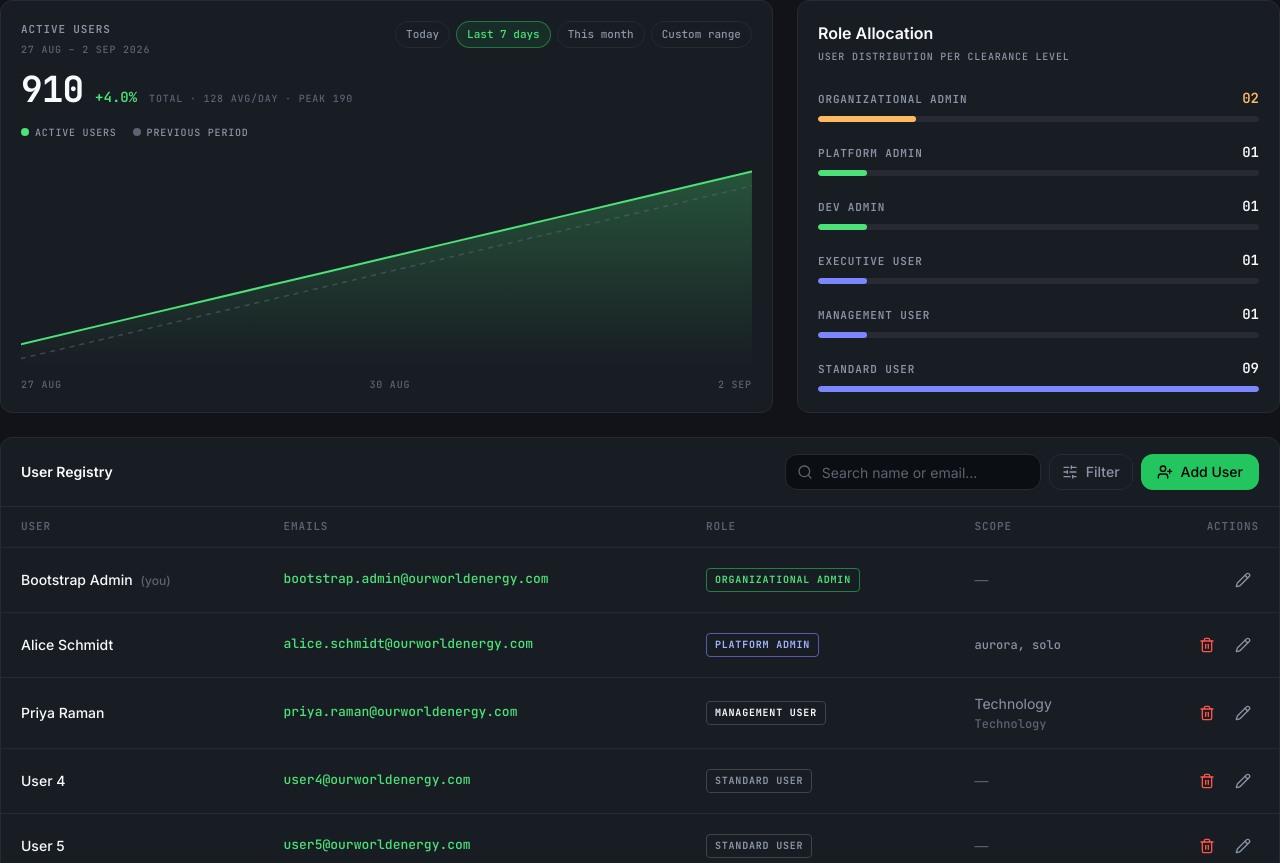
Test case: User Management — empty states › clearing from the empty state drops the search and the role filter together
Click the button with aria-label "Filter registry by role" at coordinates (1091, 472), box [1049,454,1133,490]
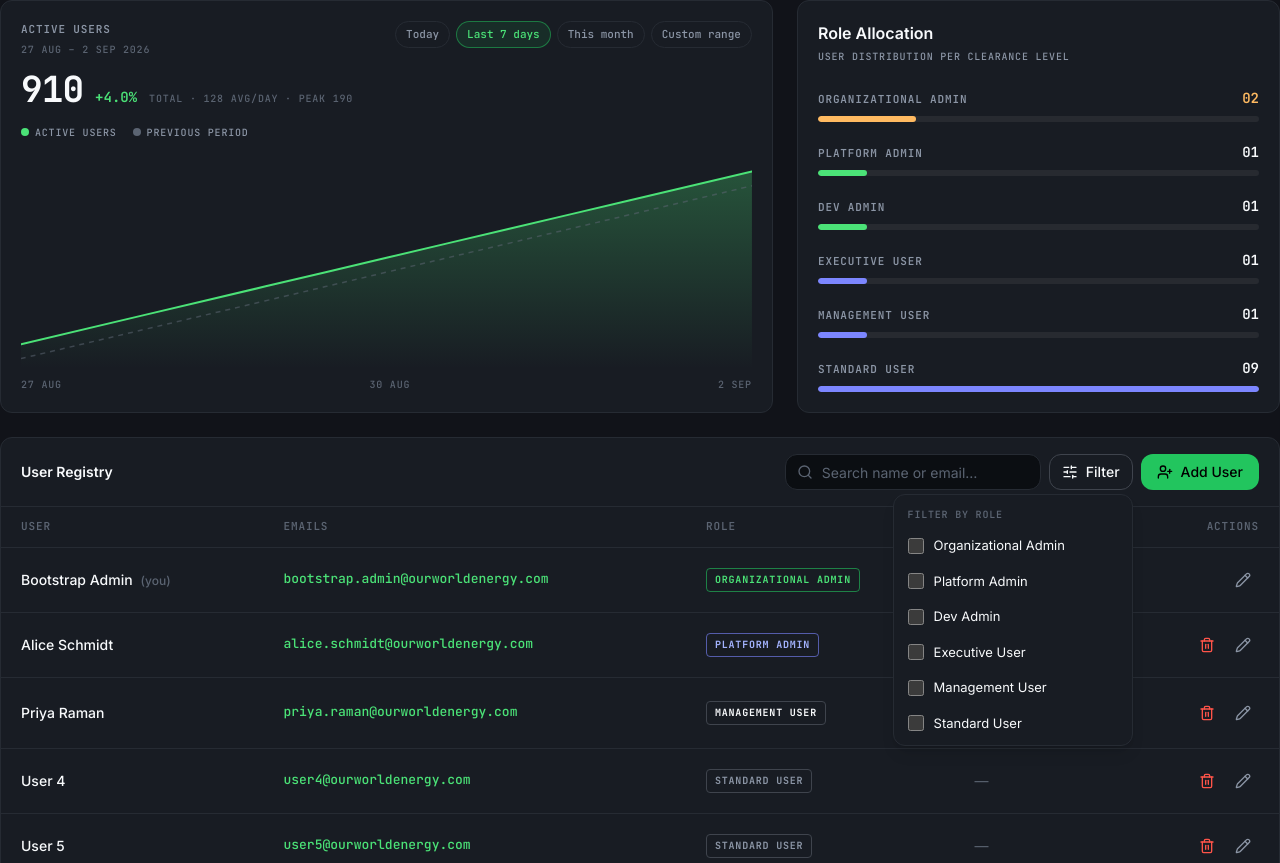
Click the checkbox labelled "Standard User" at coordinates (916, 723), box [908,715,924,731]
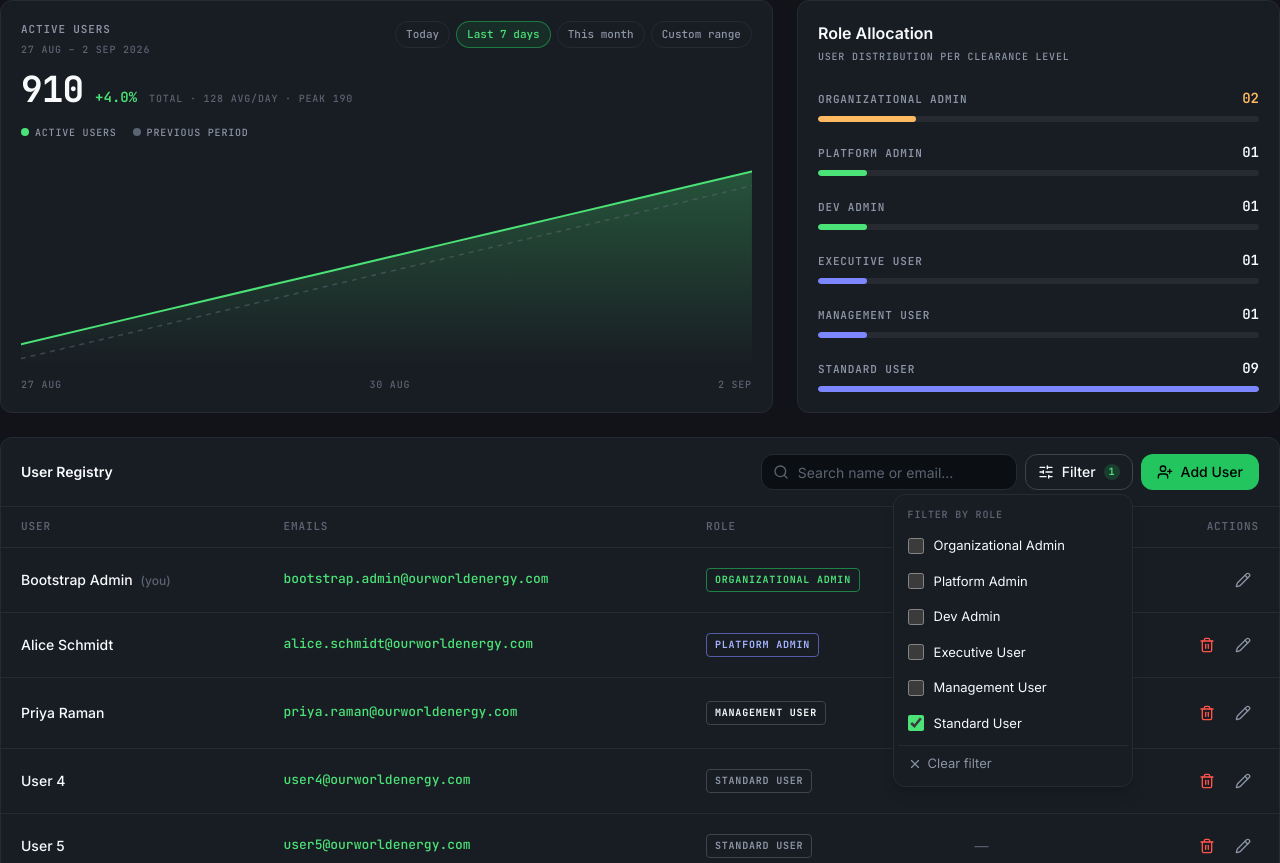
Click the button with aria-label "Filter registry by role" at coordinates (1079, 472), box [1025,454,1133,490]
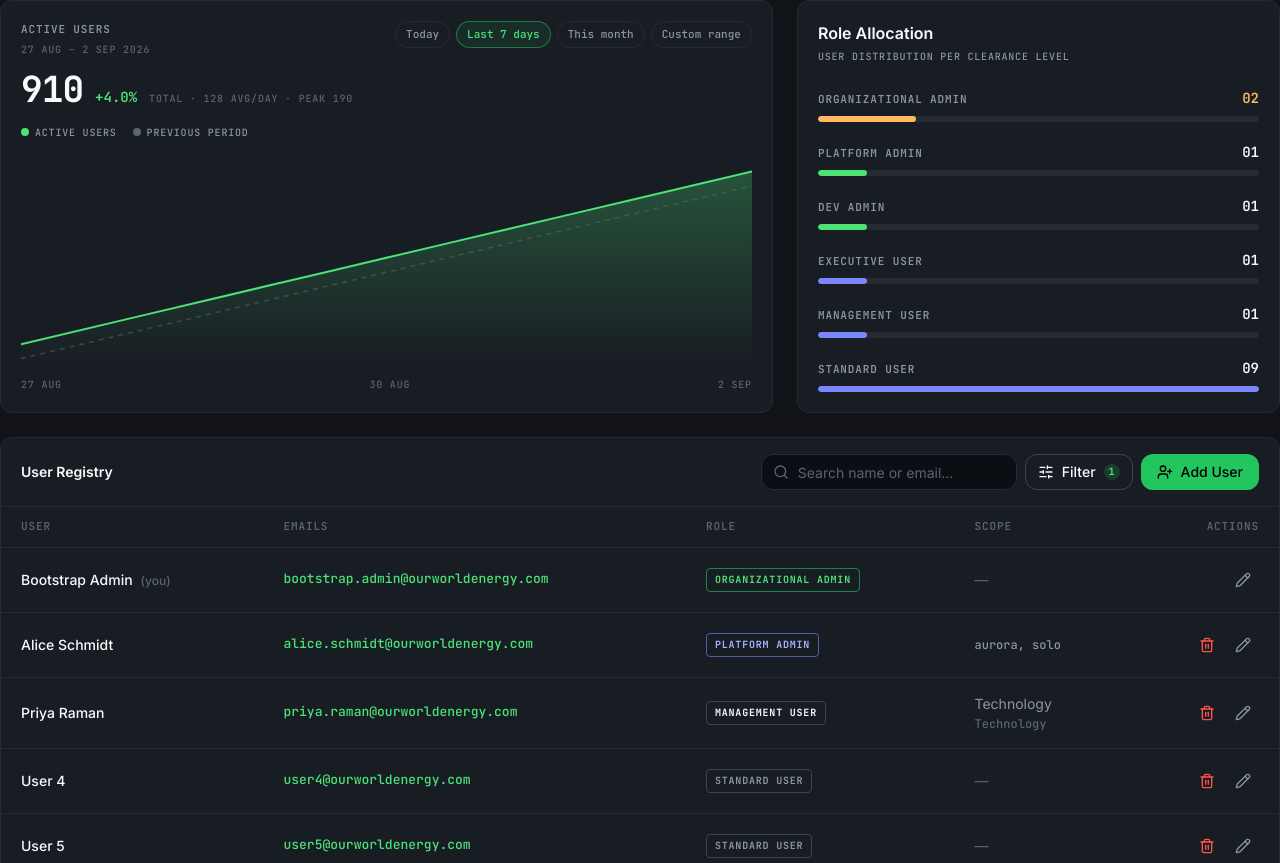
Type "zzz" into the search field named "Search registry" at coordinates (889, 472), box [761,454,1017,490]
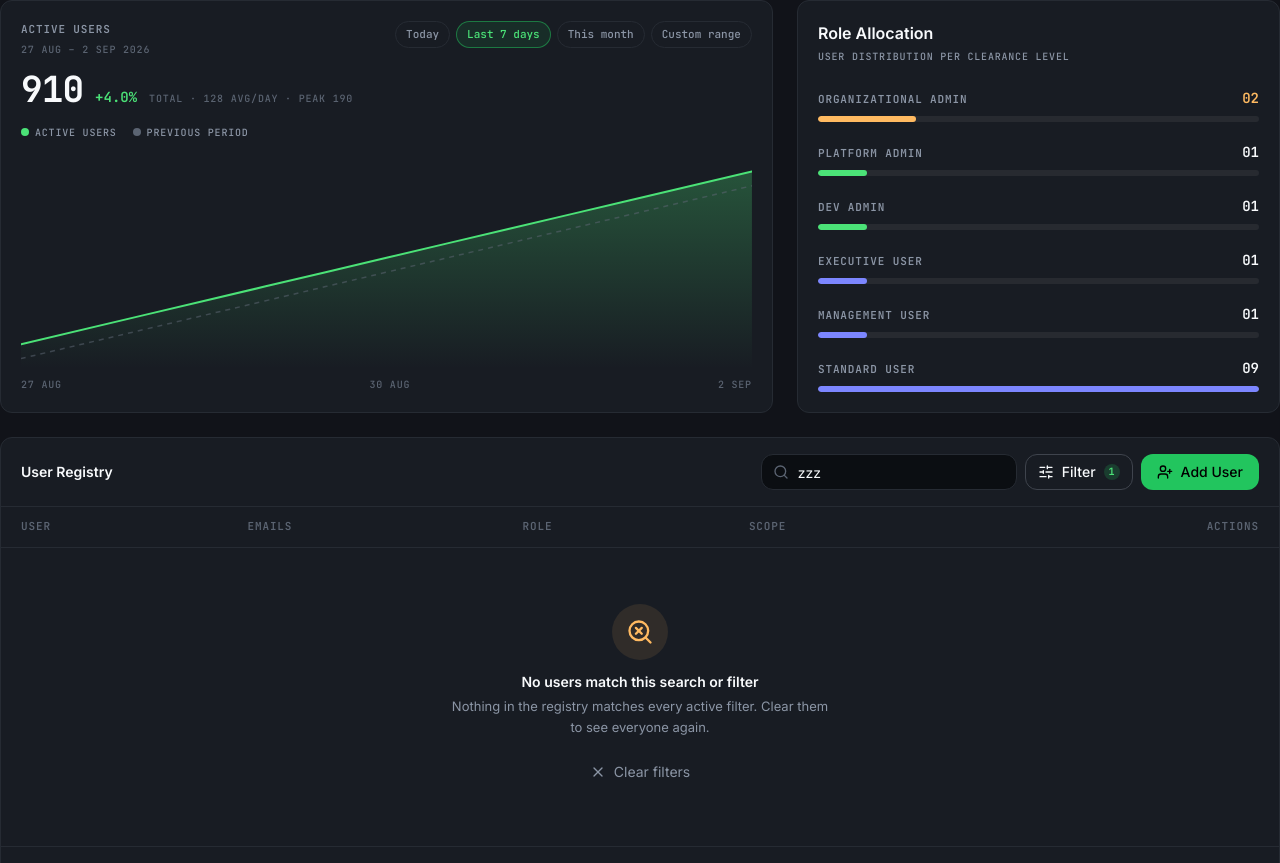
Now the button "Clear filters" is shown
Click the button "Clear filters" at coordinates (640, 772), box [574,754,706,790]
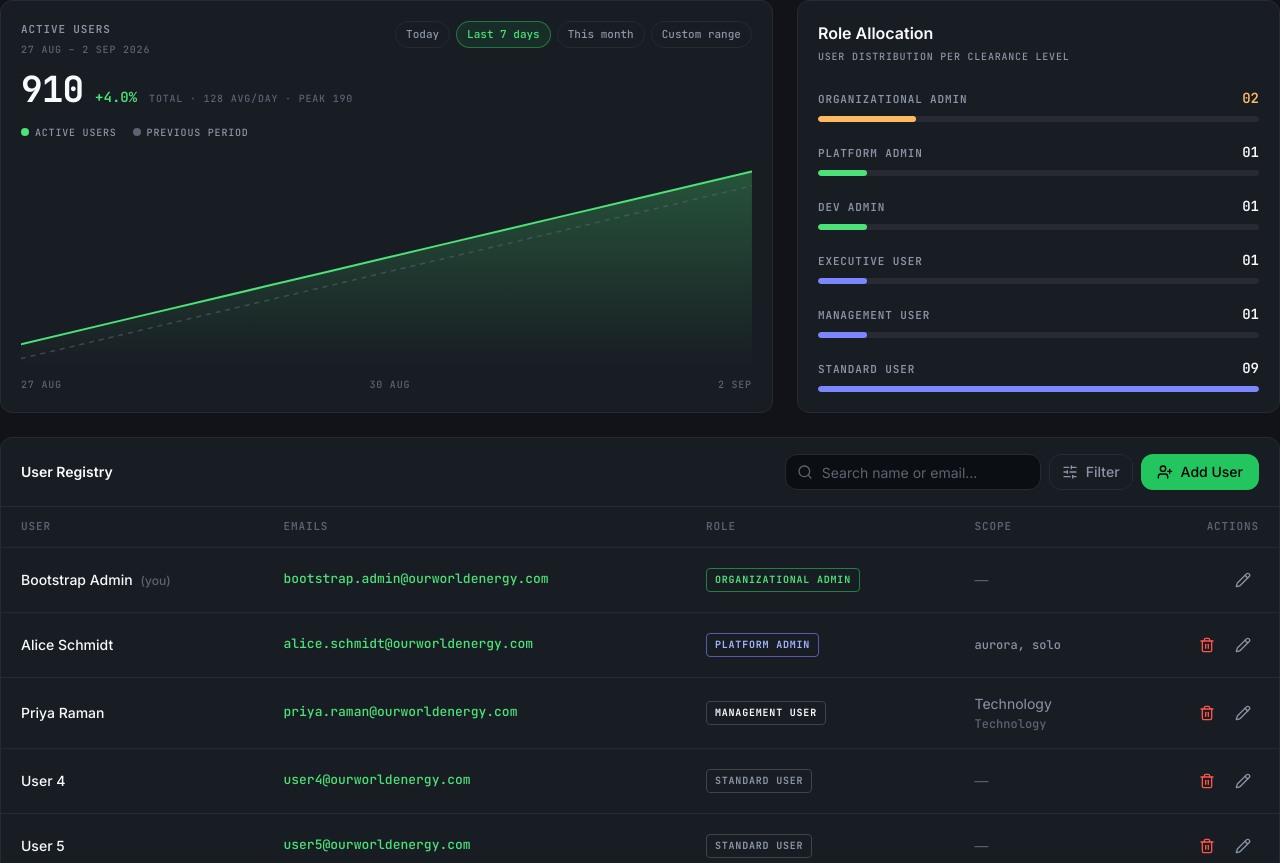
Now the search field named "Search registry" is empty, box [785,454,1041,490]
